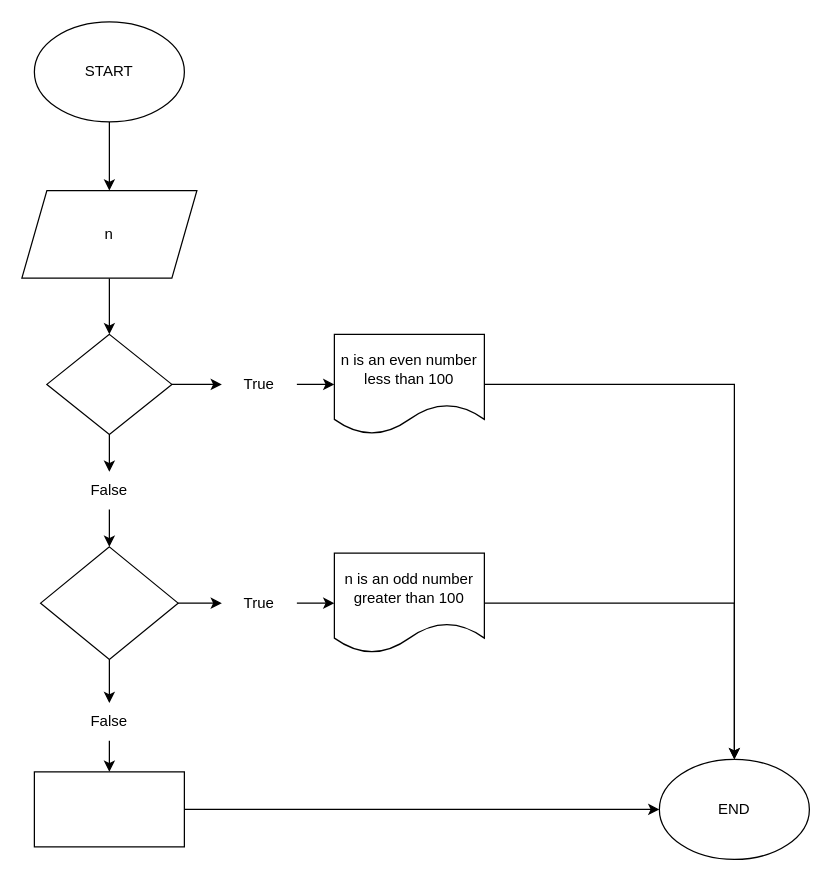
The diagram is 831 pixels wide and 881 high, and some of its shapes have lost their labels. Here are the shapes that lost their labels. From the top down, the centre of each, then its label:
At (x=109, y=383): "n<100 n%2==0".
At (x=108, y=602): "n>100 (n+1)%2==0".
At (x=108, y=809): "The correct number is not entered".
